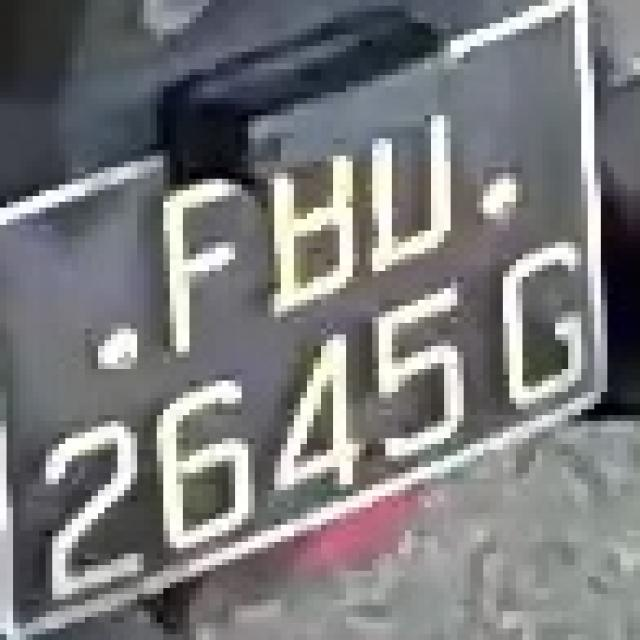2: (20, 398, 144, 634)
4: (242, 317, 378, 490)
5: (366, 282, 490, 450)
6: (144, 363, 268, 560)
B: (229, 144, 346, 311)
D: (353, 86, 470, 288)
F: (130, 167, 254, 358)
G: (444, 237, 601, 415)
